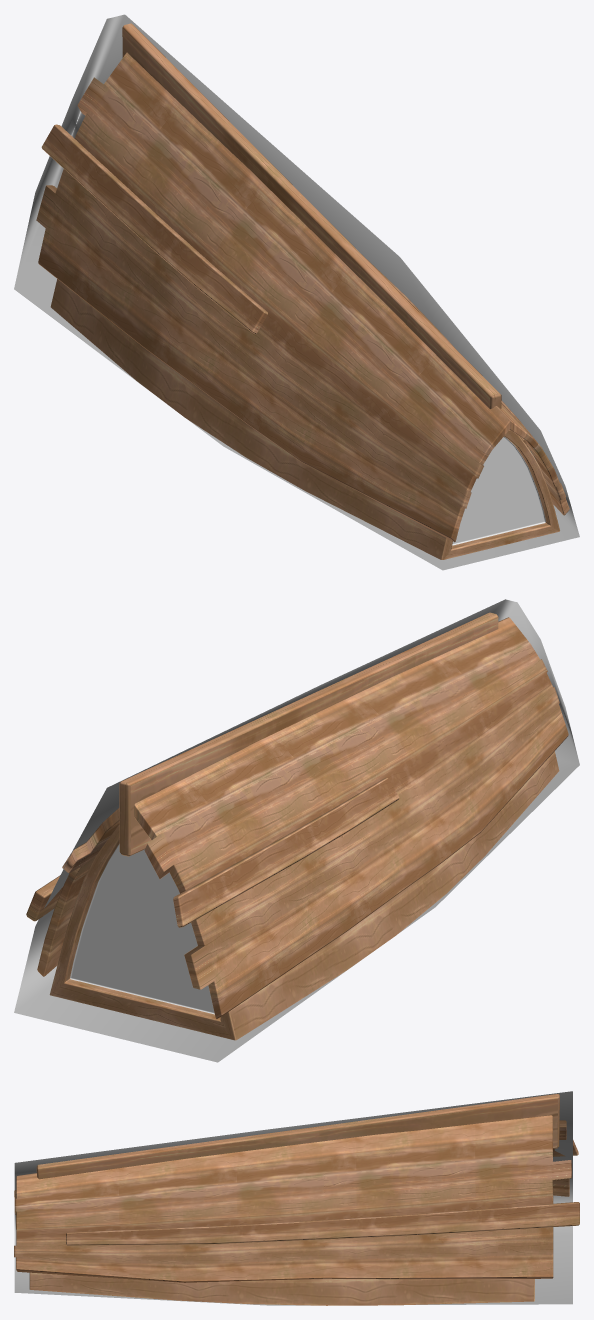
File: SM_Roof_A.gltf
3 renders of one model, top to bottom at view 1: azimuth 30°, elevation 25°; view 2: azimuth 150°, elevation 25°; view 3: azimuth 270°, elevation 25°, orthographic. The views are drawn at different scales.
Visible parts, largest first — view 1: SM_Roof_A_LOD0, SM_Roof_A_ConvexHulls; view 2: SM_Roof_A_LOD0, SM_Roof_A_ConvexHulls; view 3: SM_Roof_A_LOD0, SM_Roof_A_ConvexHulls.
Boxes of the visible parts, box(x1,y1,x2,y2) form: SM_Roof_A_LOD0: box(36, 23, 569, 559); SM_Roof_A_ConvexHulls: box(14, 14, 579, 570); SM_Roof_A_LOD0: box(26, 612, 568, 1040); SM_Roof_A_ConvexHulls: box(14, 599, 579, 1062); SM_Roof_A_LOD0: box(14, 1094, 579, 1305); SM_Roof_A_ConvexHulls: box(14, 1091, 572, 1305).
Size of what is drawn, in the model's own units: 3.79 by 4.2 by 12.32.
Materials: 4 (2 with a texture image).
